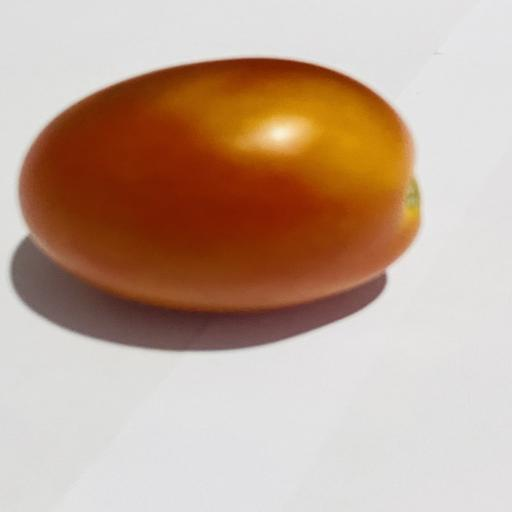ripe: (20, 58, 419, 311)
